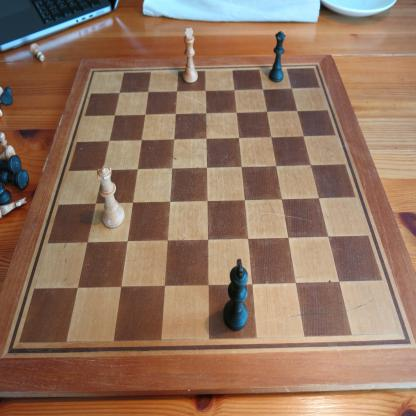black-king: (223, 258, 248, 332)
black-queen: (269, 30, 286, 83)
white-king: (182, 26, 199, 84)
white-knight: (1, 196, 28, 220)
white-pawn: (29, 42, 46, 62), (1, 131, 8, 153)
white-queen: (96, 165, 126, 229)
